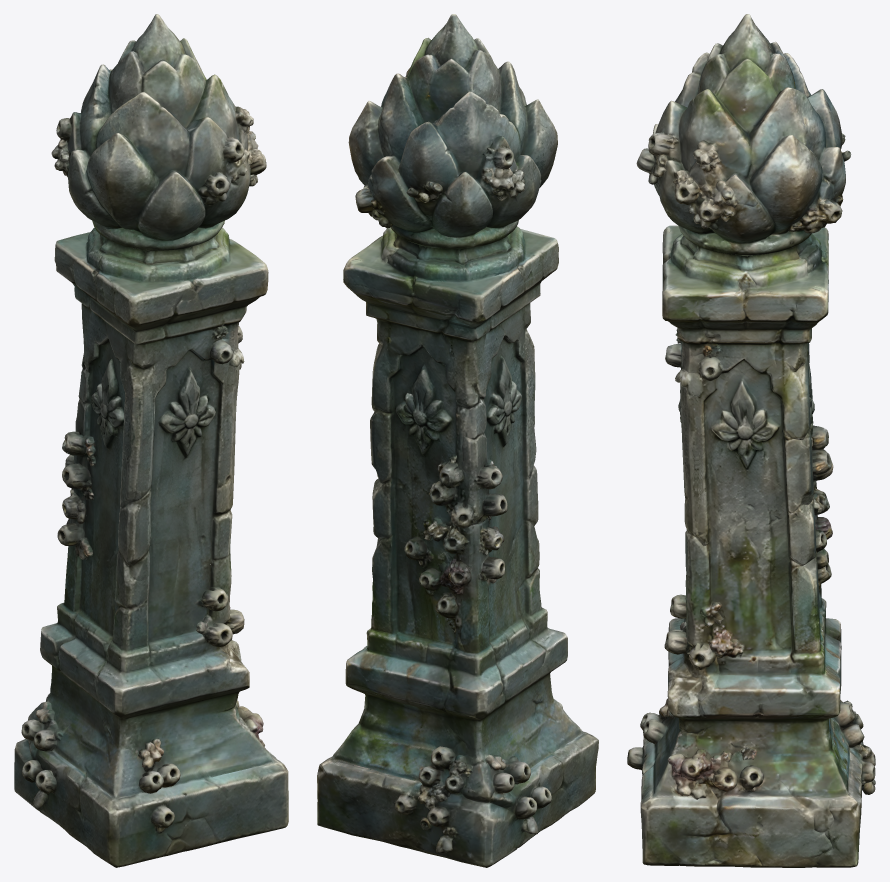
The model's file is T20_post.glb.
3 renders of one model, left to right at view 1: azimuth 30°, elevation 25°; view 2: azimuth 150°, elevation 25°; view 3: azimuth 270°, elevation 25°, orthographic. The views are drawn at different scales.
Visible parts, largest first — view 1: tripo_node_f17dde0f-505c-4ad3-9ea7-29b75c83d854; view 2: tripo_node_f17dde0f-505c-4ad3-9ea7-29b75c83d854; view 3: tripo_node_f17dde0f-505c-4ad3-9ea7-29b75c83d854.
Boxes of the visible parts, x1,y1,x2,y2 form: tripo_node_f17dde0f-505c-4ad3-9ea7-29b75c83d854: (14, 14, 288, 867); tripo_node_f17dde0f-505c-4ad3-9ea7-29b75c83d854: (317, 14, 598, 867); tripo_node_f17dde0f-505c-4ad3-9ea7-29b75c83d854: (627, 14, 875, 867).
Size of the model in its own units: 0.2541 by 0.9782 by 0.271.
Materials: 1 (1 with a texture image).
